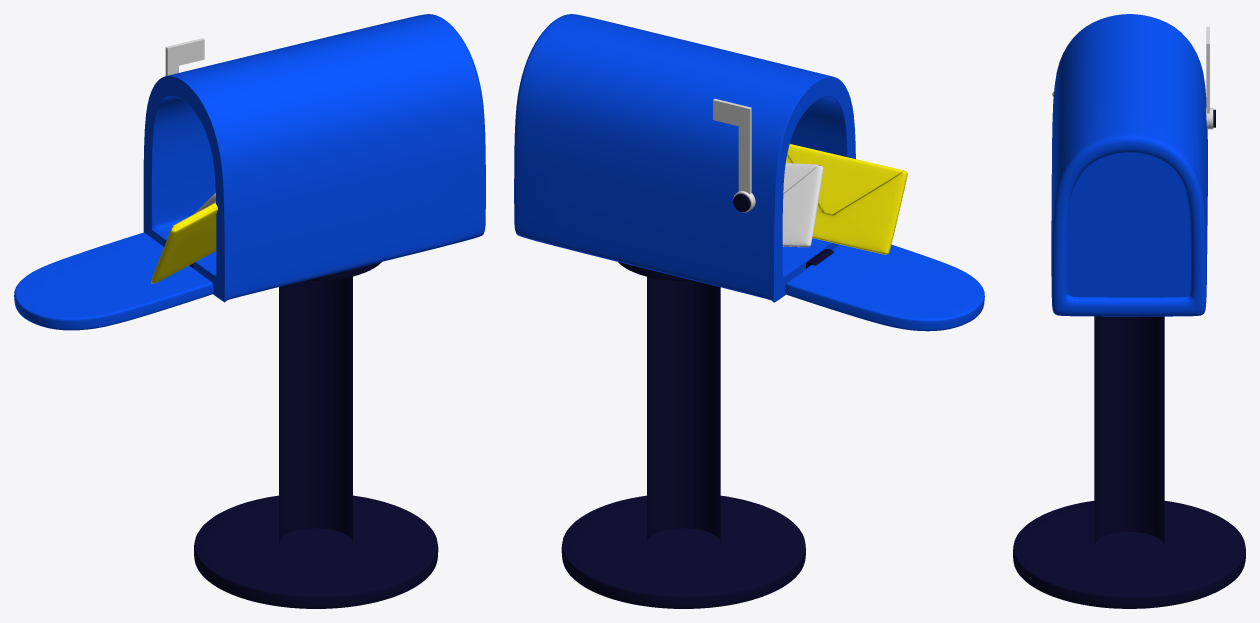
File: mailbox.glb
3 renders of one model, left to right at view 1: azimuth 30°, elevation 25°; view 2: azimuth 150°, elevation 25°; view 3: azimuth 270°, elevation 25°, orthographic. The views are drawn at different scales.
Visible parts, largest first — view 1: Base of box; view 2: Base of box; view 3: Base of box.
Part boxes in pixels (box(x1,y1,x2,y2)): Base of box: box(14, 14, 485, 608); Base of box: box(514, 14, 984, 608); Base of box: box(1013, 14, 1245, 608).
Size of the model in its own units: 5.99 by 6.86 by 2.98.
